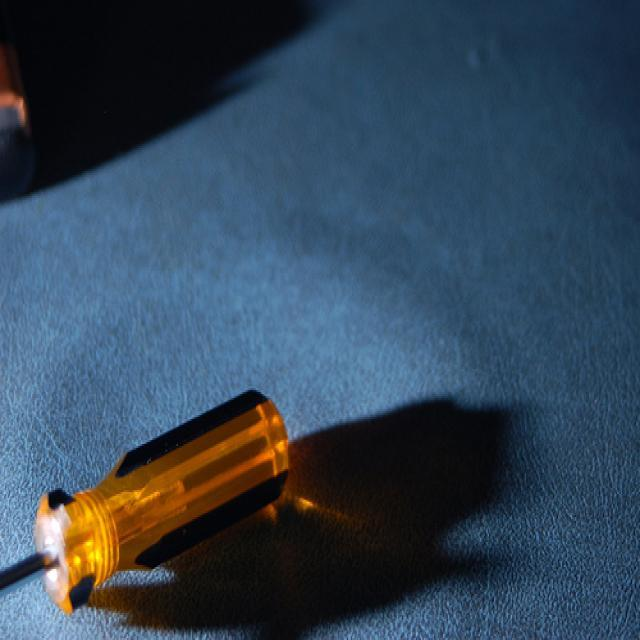screwdriver: (0, 386, 311, 616)
